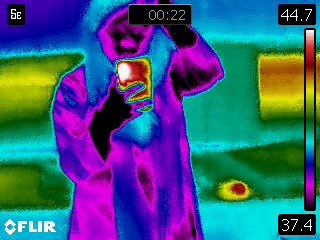human: (52, 1, 226, 239)
